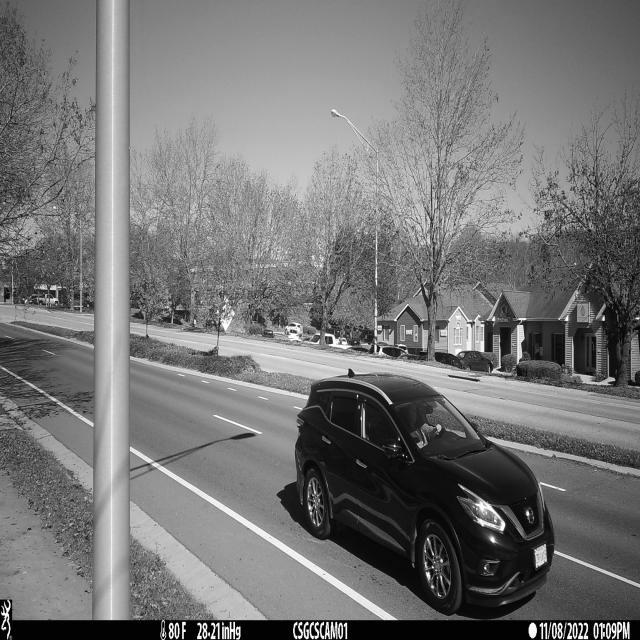SUV: (296, 369, 555, 616)
